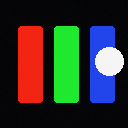2 circle: (95, 47, 123, 75)
